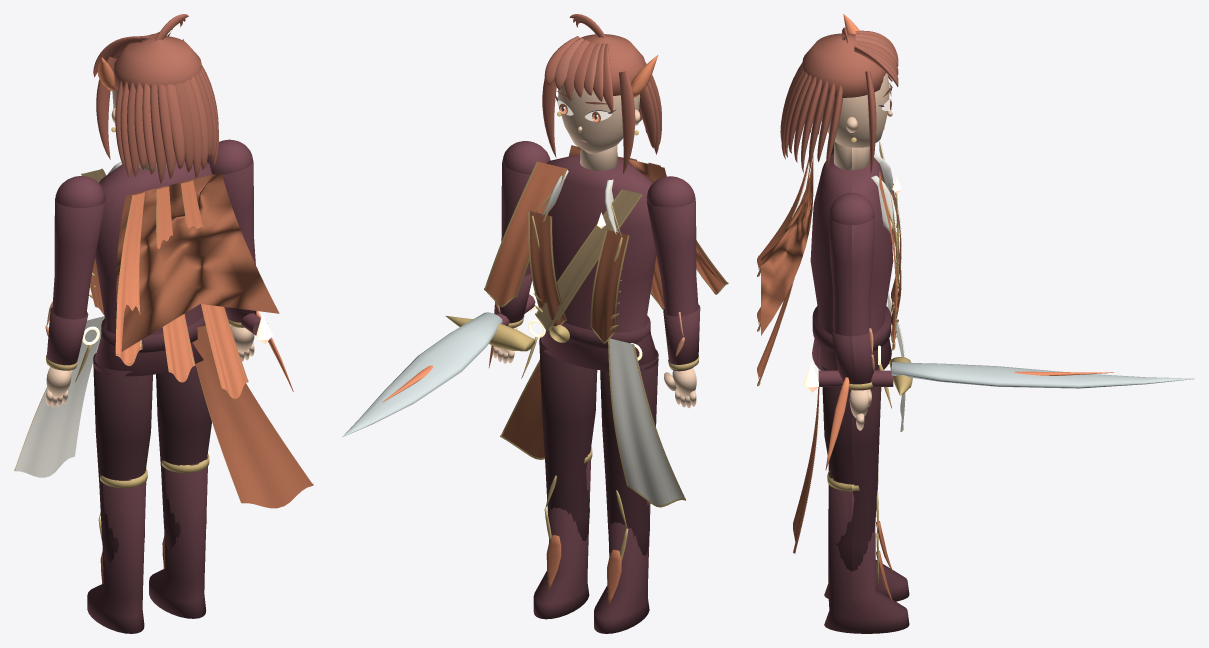
The model's file is character_10.glb.
3 renders of one model, left to right at view 1: azimuth 30°, elevation 25°; view 2: azimuth 150°, elevation 25°; view 3: azimuth 270°, elevation 25°, orthographic. The views are drawn at different scales.
Visible parts, largest first — view 1: _MeshInstance3D_3022, _MeshInstance3D_3064, _MeshInstance3D_3020, _MeshInstance3D_3029, _MeshInstance3D_3002, _MeshInstance3D_3039, _MeshInstance3D_3030, _MeshInstance3D_3033, _MeshInstance3D_3038, _MeshInstance3D_3018, _MeshInstance3D_3065, _MeshInstance3D_3042 (+9 smaller); view 2: _MeshInstance3D_3002, _MeshInstance3D_3038, _MeshInstance3D_3018, _MeshInstance3D_3033, _MeshInstance3D_3064, _MeshInstance3D_3045, _MeshInstance3D_3029, _MeshInstance3D_3039, _MeshInstance3D_3016, _MeshInstance3D_3030, _MeshInstance3D_3051, _MeshInstance3D_3006 (+21 smaller); view 3: _MeshInstance3D_3002, _MeshInstance3D_3042, _MeshInstance3D_3064, _MeshInstance3D_3038, _MeshInstance3D_3039, _MeshInstance3D_3045, _MeshInstance3D_3022, _MeshInstance3D_3051, _MeshInstance3D_3043, _MeshInstance3D_3065, _MeshInstance3D_3066, _MeshInstance3D_3046 (+7 smaller).
Part boxes in pixels (bbox=[...]): _MeshInstance3D_3022: bbox=[116, 172, 279, 351]; _MeshInstance3D_3064: bbox=[93, 14, 218, 178]; _MeshInstance3D_3020: bbox=[192, 325, 313, 508]; _MeshInstance3D_3029: bbox=[93, 353, 152, 565]; _MeshInstance3D_3002: bbox=[93, 159, 212, 376]; _MeshInstance3D_3039: bbox=[149, 456, 207, 618]; _MeshInstance3D_3030: bbox=[87, 478, 146, 633]; _MeshInstance3D_3033: bbox=[52, 176, 105, 368]; _MeshInstance3D_3038: bbox=[156, 364, 211, 550]; _MeshInstance3D_3018: bbox=[15, 316, 104, 477]; _MeshInstance3D_3065: bbox=[115, 70, 217, 178]; _MeshInstance3D_3042: bbox=[207, 139, 267, 335]; _MeshInstance3D_3002: bbox=[539, 154, 658, 370]; _MeshInstance3D_3038: bbox=[539, 337, 597, 540]; _MeshInstance3D_3018: bbox=[609, 338, 685, 505]; _MeshInstance3D_3033: bbox=[646, 176, 698, 371]; _MeshInstance3D_3064: bbox=[542, 14, 659, 173]; _MeshInstance3D_3045: bbox=[342, 312, 502, 436]; _MeshInstance3D_3029: bbox=[600, 350, 658, 555]; _MeshInstance3D_3039: bbox=[533, 451, 591, 619]; _MeshInstance3D_3016: bbox=[486, 161, 567, 305]; _MeshInstance3D_3030: bbox=[594, 501, 650, 633]; _MeshInstance3D_3051: bbox=[557, 84, 640, 153]; _MeshInstance3D_3006: bbox=[537, 189, 642, 329]; _MeshInstance3D_3002: bbox=[810, 154, 893, 370]; _MeshInstance3D_3042: bbox=[819, 193, 893, 390]; _MeshInstance3D_3064: bbox=[783, 27, 898, 174]; _MeshInstance3D_3038: bbox=[822, 366, 881, 571]; _MeshInstance3D_3039: bbox=[824, 471, 909, 633]; _MeshInstance3D_3045: bbox=[891, 362, 1194, 388]; _MeshInstance3D_3022: bbox=[761, 155, 813, 335]; _MeshInstance3D_3051: bbox=[821, 73, 892, 147]; _MeshInstance3D_3043: bbox=[831, 328, 873, 384]; _MeshInstance3D_3065: bbox=[781, 69, 835, 162]; _MeshInstance3D_3066: bbox=[780, 65, 828, 168]; _MeshInstance3D_3046: bbox=[825, 371, 1114, 470].
Size of the model in its own units: 1.03 by 2.37 by 1.59.
